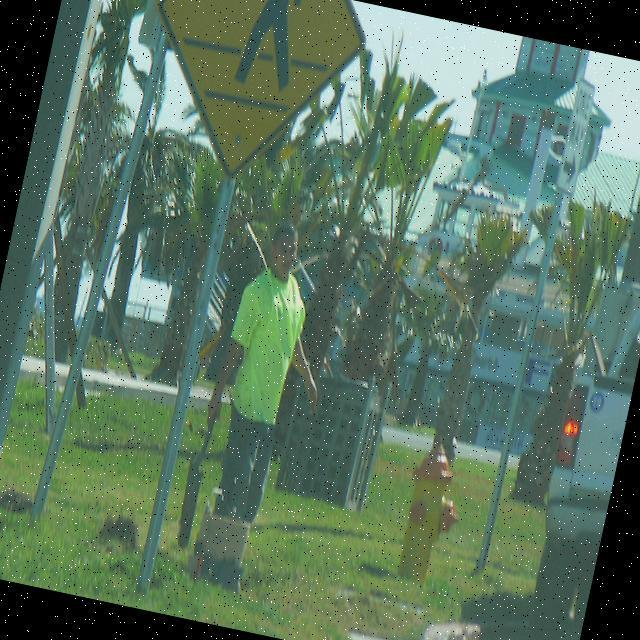fire_hydrant: (389, 427, 476, 590)
